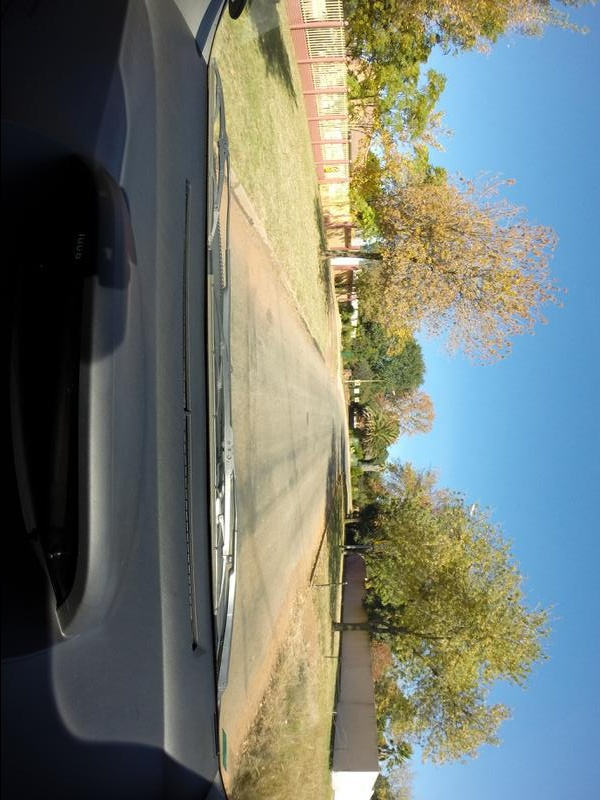pothole: (303, 415, 311, 429)
